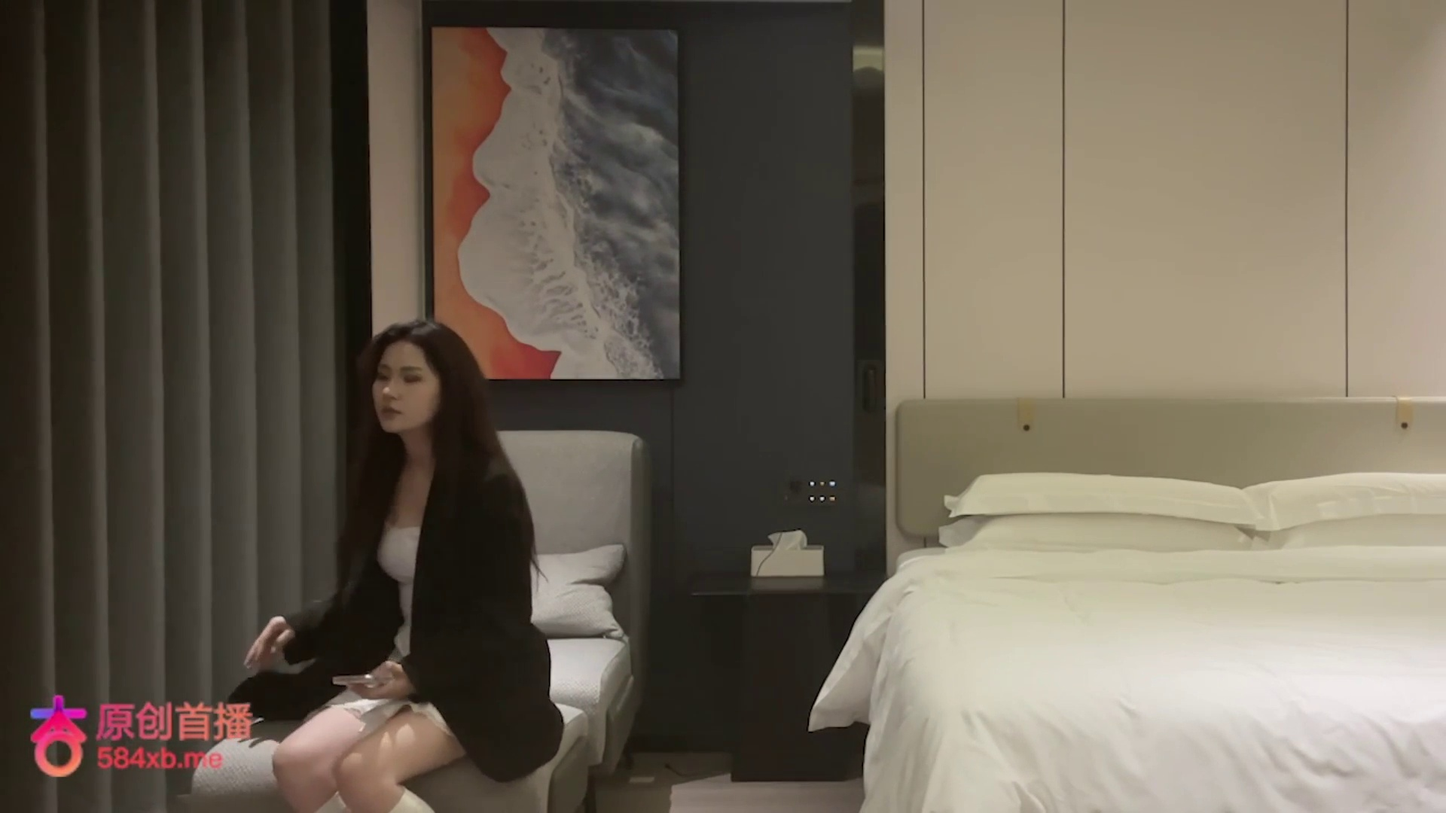sit: (239, 318, 566, 810)
